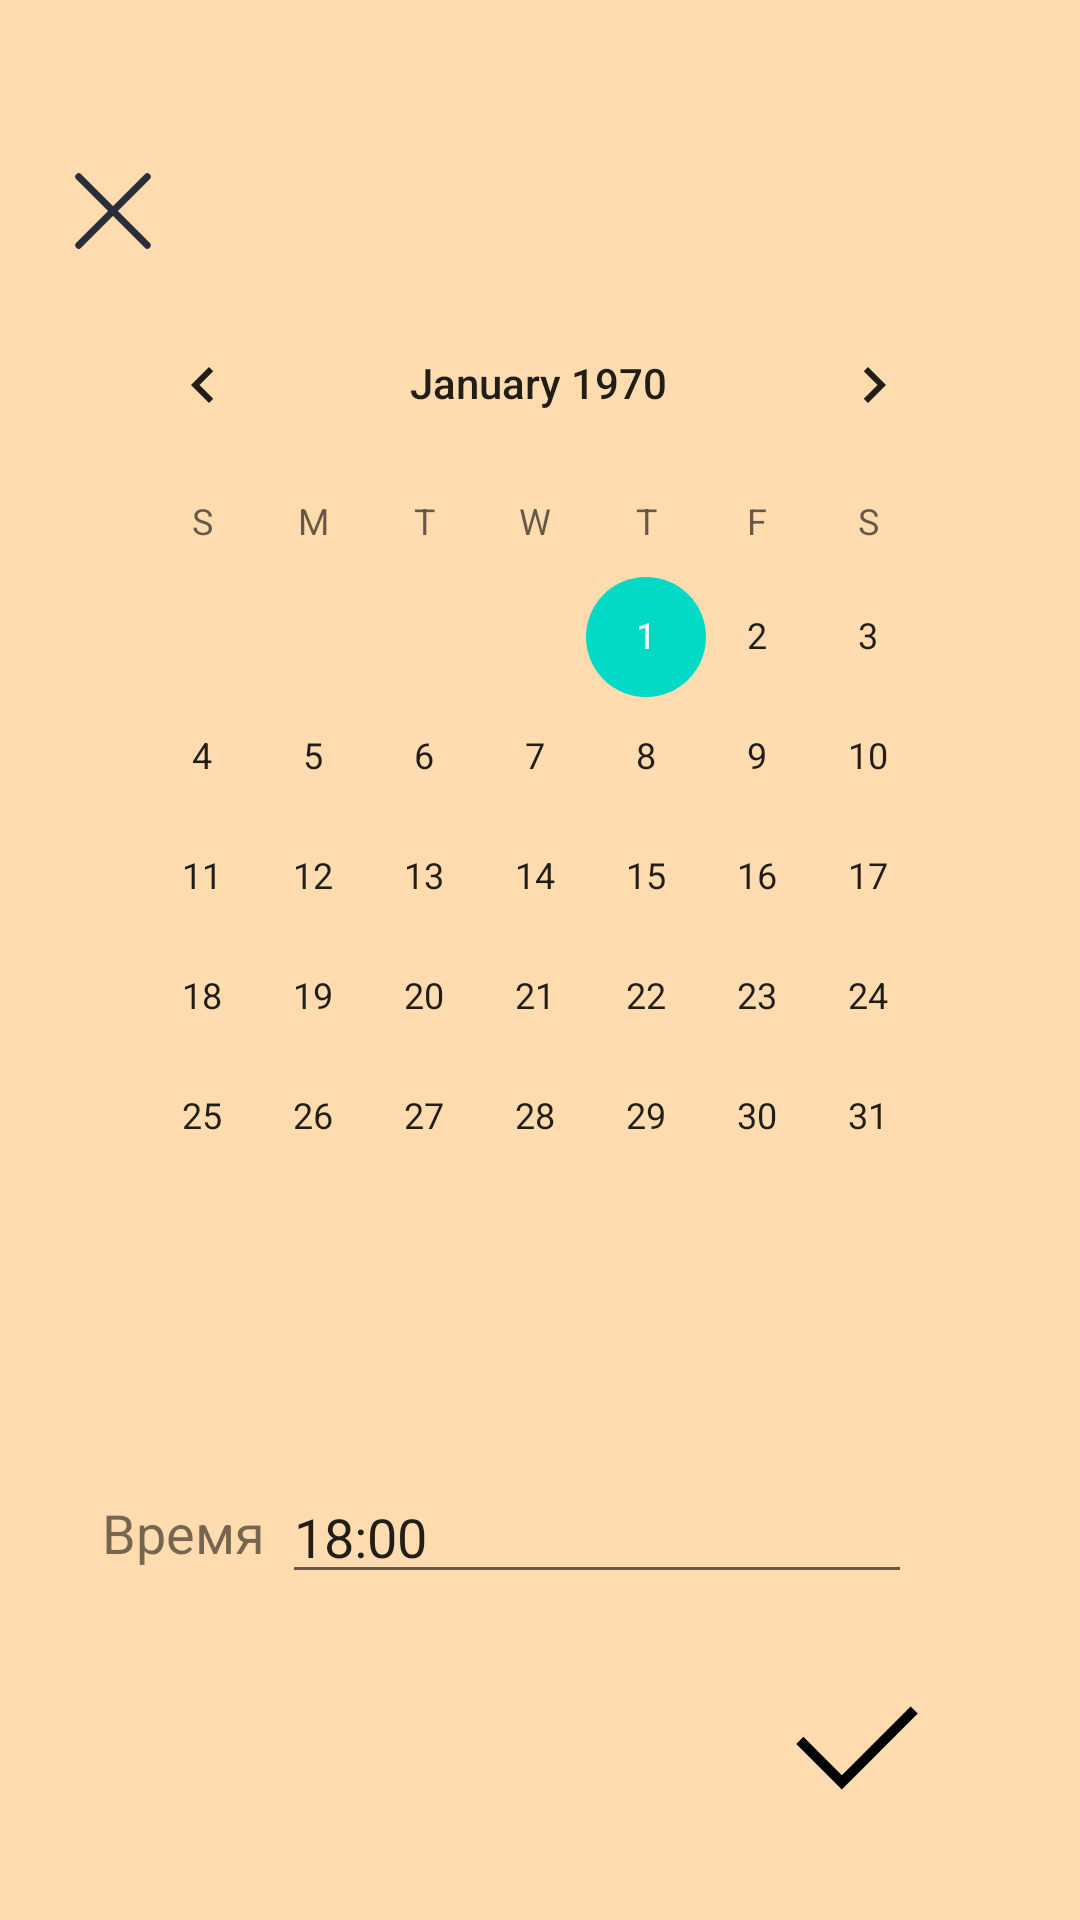

Point at icon controls on the screen. Image size 1080px x 1920px, points as [x,y].
checkmark: [857,1748]
cross: [113,211]
